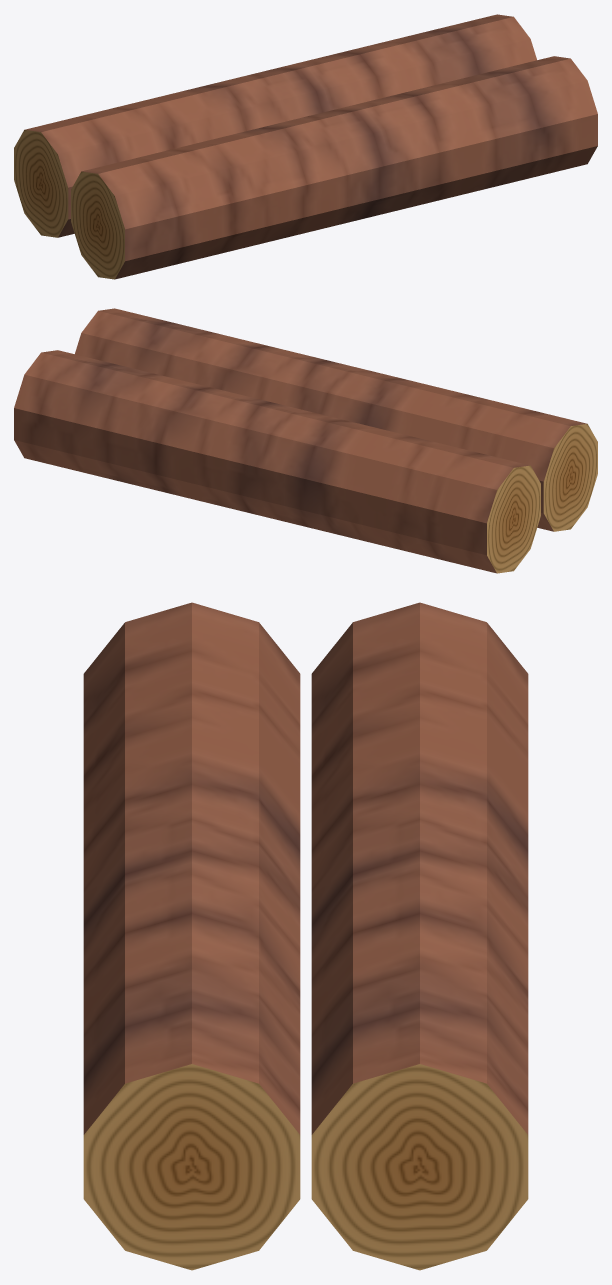
File: logs2.glb
3 renders of one model, top to bottom at view 1: azimuth 30°, elevation 25°; view 2: azimuth 150°, elevation 25°; view 3: azimuth 270°, elevation 25°, orthographic. The views are drawn at different scales.
Visible parts, largest first — view 1: logs2; view 2: logs2; view 3: logs2.
Part boxes in pixels (<box>): logs2: <box>14,14,597,279</box>; logs2: <box>14,308,597,573</box>; logs2: <box>83,602,528,1270</box>.
Size of the model in its own units: 1.15 by 0.24 by 0.4683.
Materials: 1 (1 with a texture image).
